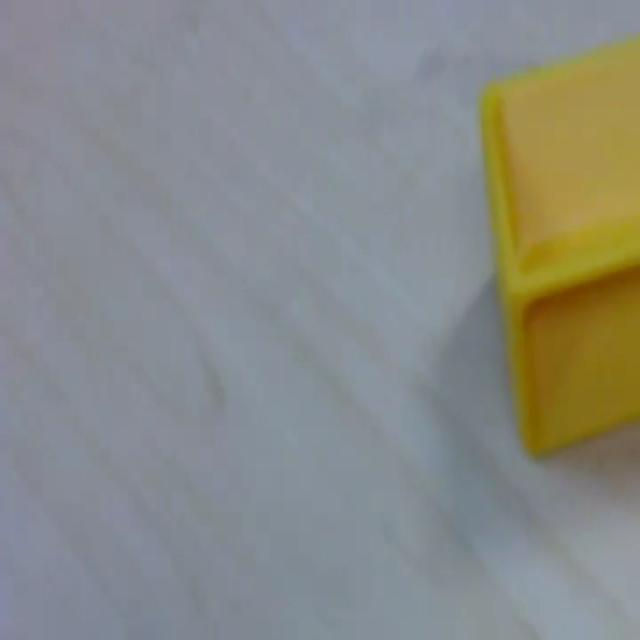yellow_block: (478, 33, 638, 459)
